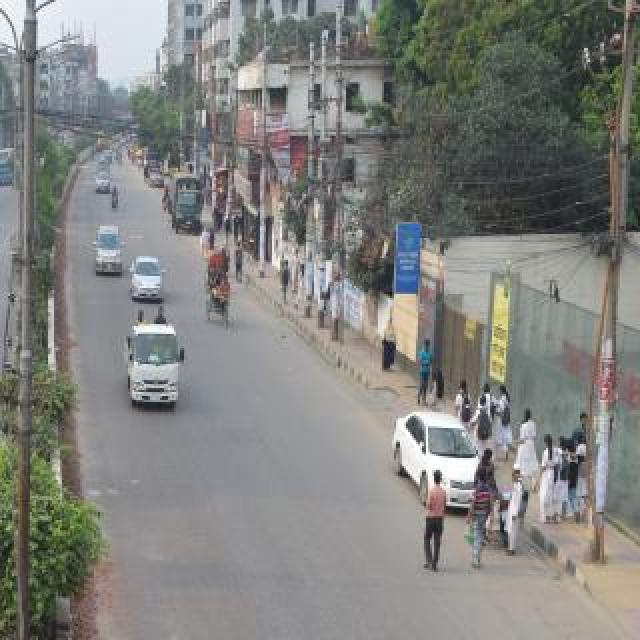car: (383, 384, 497, 534), (128, 245, 174, 313), (88, 224, 134, 280), (147, 156, 171, 192), (93, 143, 121, 169), (94, 160, 114, 190)
motorbike: (470, 456, 540, 574), (101, 175, 127, 223), (0, 176, 6, 202)
truck: (159, 162, 217, 262)
